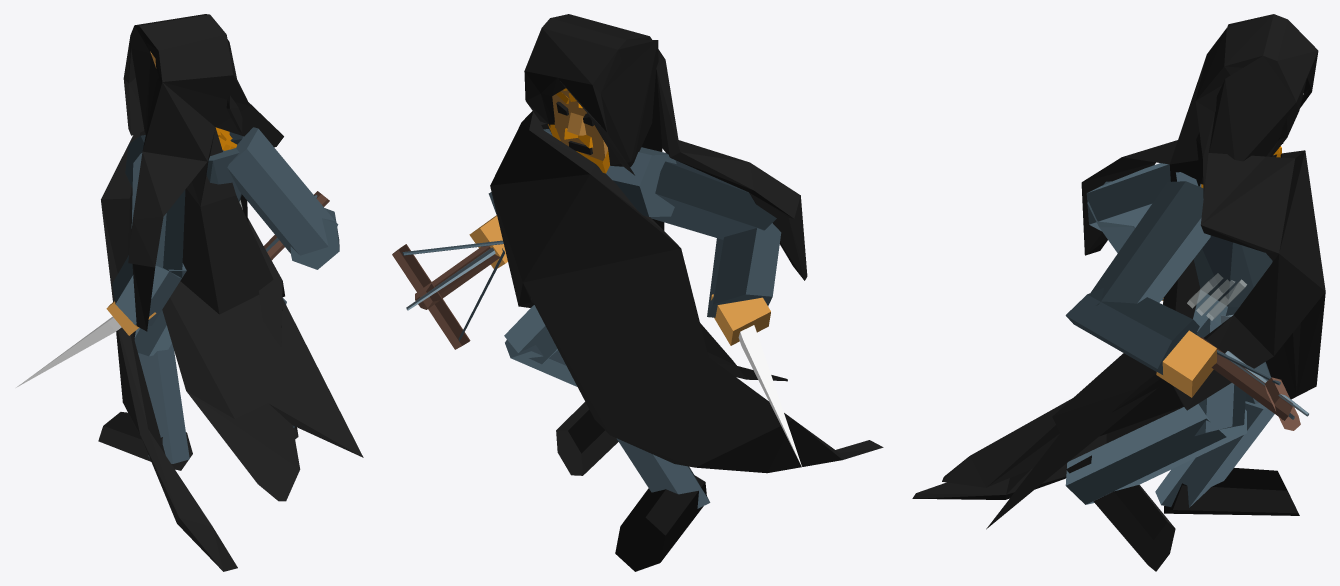
The model's file is cubo17.gltf.
3 views of the same model, side by side, from view 1: azimuth 30°, elevation 25°; view 2: azimuth 150°, elevation 25°; view 3: azimuth 270°, elevation 25° (orthographic). The views are drawn at different scales.
Parts seen in each view (by area): view 1: Node; view 2: Node; view 3: Node.
Part boxes in pixels (<box>): Node: <box>16,14,363,571</box>; Node: <box>392,14,883,571</box>; Node: <box>912,14,1325,571</box>.
Bounding box in the file's own units: 0.508 × 0.6347 × 0.4607.
